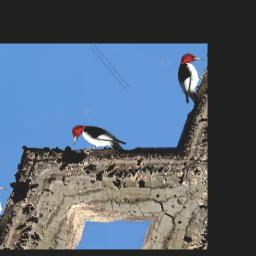Woodpecker: (59, 104, 136, 177)
